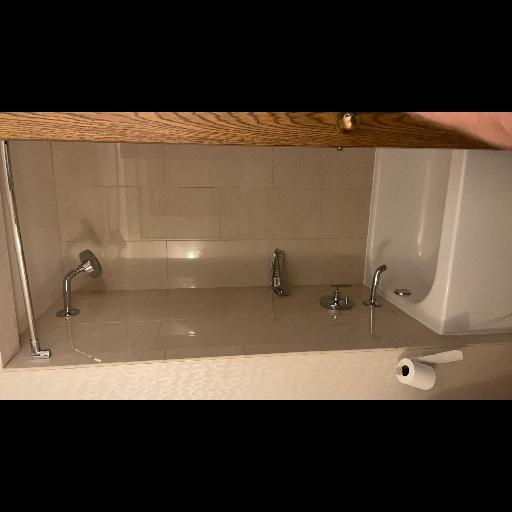clean_bathtub: (282, 146, 511, 357)
